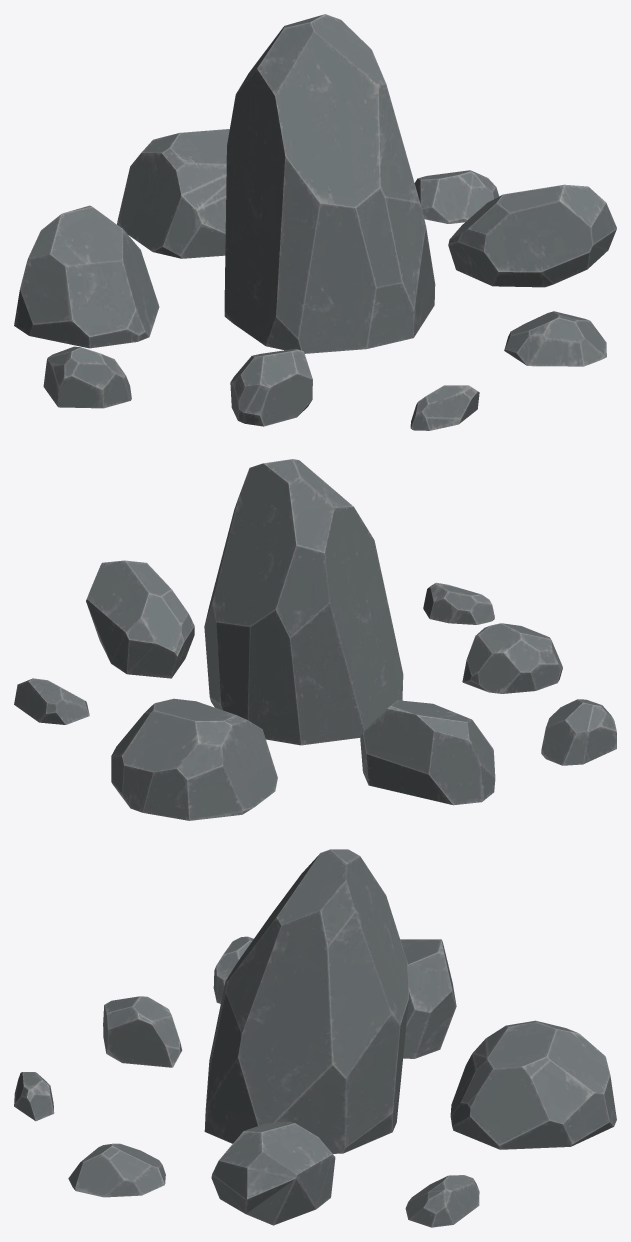
File: rocks.glb
3 views of the same model, one above another, from view 1: azimuth 30°, elevation 25°; view 2: azimuth 150°, elevation 25°; view 3: azimuth 270°, elevation 25° (orthographic). The views are drawn at different scales.
Visible parts, largest first — view 1: Cube.001; view 2: Cube.001; view 3: Cube.001.
Part boxes in pixels (box(x1,y1,x2,y2)): Cube.001: box(14, 14, 616, 430); Cube.001: box(14, 459, 616, 820); Cube.001: box(14, 849, 616, 1227).
Bounding box in the file's own units: 2 × 0.9428 × 1.93.
Materials: 1 (1 with a texture image).
